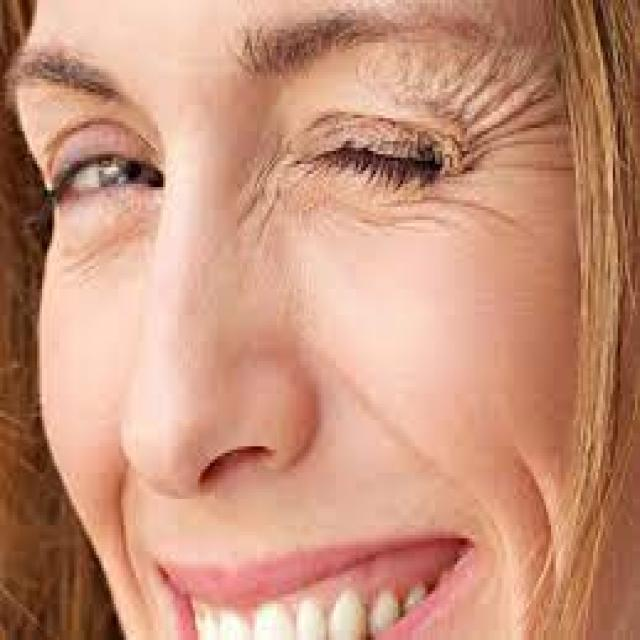Wrinkles: (360, 44, 576, 238), (522, 450, 563, 625)
